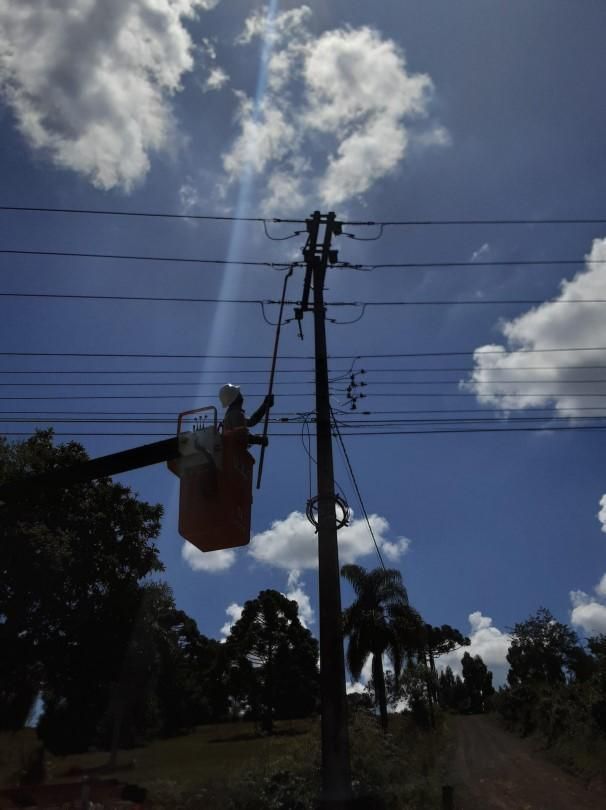helmet: (217, 380, 244, 410)
